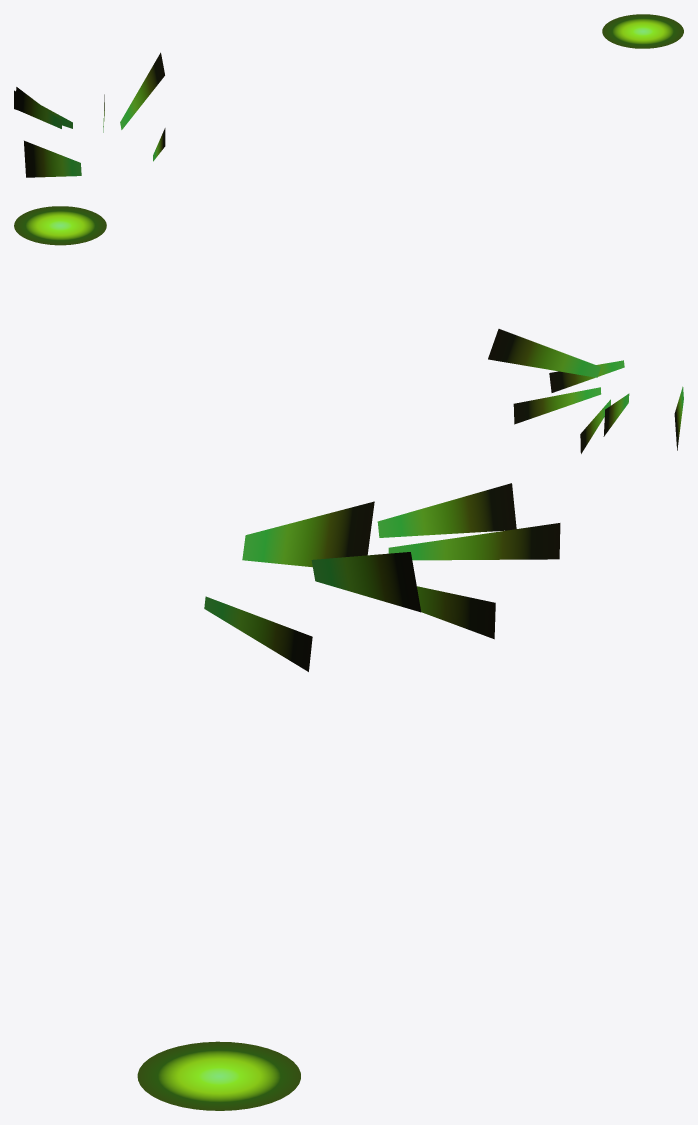
File: pref_fx_lobby_000303_asia_scene_effects_hs_lv3.fbx
The picture shows the model from 3 angles, top to bottom: view 1: azimuth 30°, elevation 25°; view 2: azimuth 150°, elevation 25°; view 3: azimuth 270°, elevation 25°; orthographic projection. The views are drawn at different scales.
Visible parts, largest first — view 1: kuosan01, canliu03, canliu05, canliu02; view 2: kuosan01, canliu05, canliu04, canliu06, canliu02, canliu01; view 3: kuosan01, canliu03, canliu02, canliu05, canliu01, canliu06, canliu04.
Part boxes in pixels (x1,y1,x2,y2): kuosan01: [602, 14, 683, 48]; canliu03: [24, 140, 81, 177]; canliu05: [120, 52, 164, 129]; canliu02: [15, 87, 62, 128]; kuosan01: [14, 206, 106, 245]; canliu05: [488, 329, 600, 377]; canliu04: [513, 387, 601, 424]; canliu06: [549, 360, 624, 392]; canliu02: [603, 393, 629, 436]; canliu01: [580, 399, 610, 453]; kuosan01: [137, 1041, 300, 1110]; canliu03: [242, 501, 374, 567]; canliu02: [377, 483, 516, 537]; canliu05: [311, 552, 421, 612]; canliu01: [388, 523, 560, 560]; canliu06: [204, 596, 312, 671]; canliu04: [417, 586, 495, 639].
Bounding box in the file's own units: 68.88 × 8.73 × 20.48.
